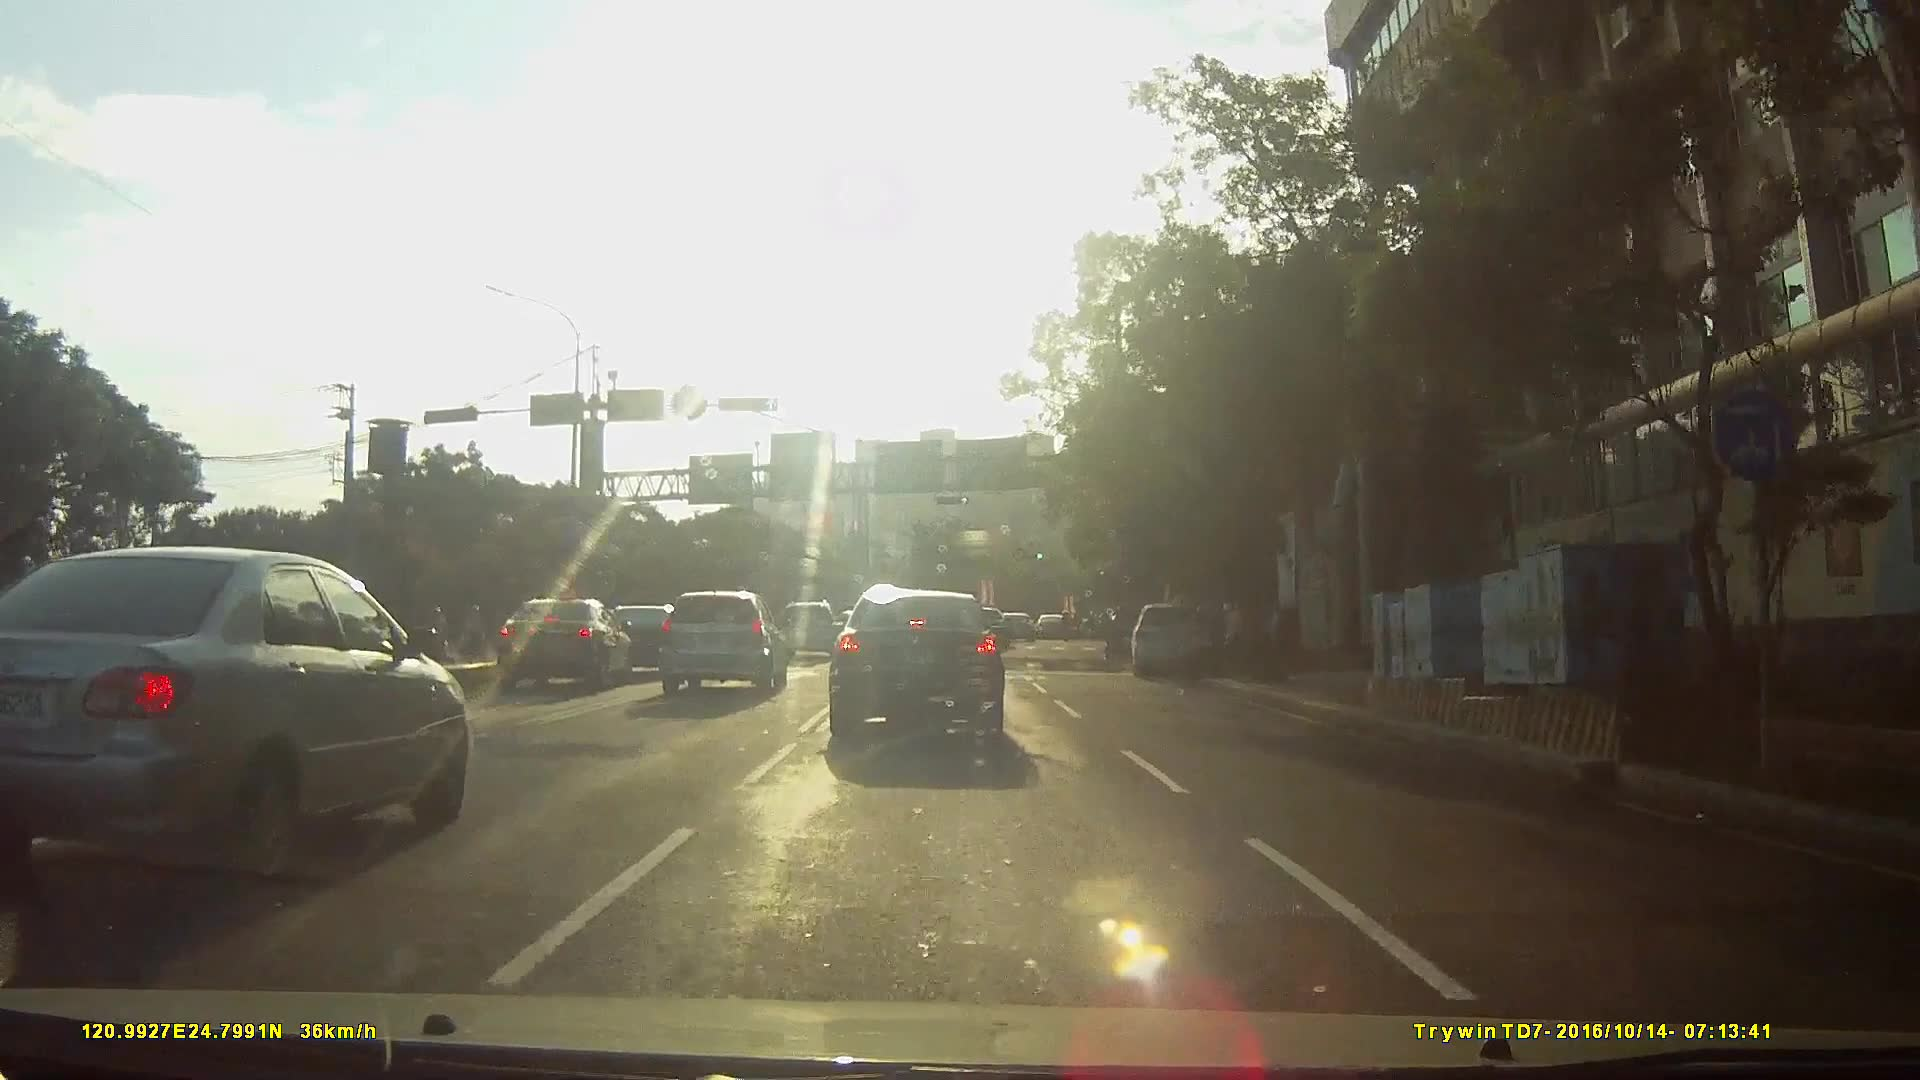pedestrian: (1221, 603, 1249, 667)
rider: (457, 602, 493, 662), (424, 604, 454, 669)
vehicle: (1, 543, 493, 897), (820, 600, 1022, 772), (470, 598, 623, 697), (652, 588, 787, 695), (1135, 602, 1222, 683), (585, 605, 678, 678), (773, 600, 843, 664), (959, 606, 1015, 653), (1000, 612, 1039, 644), (1036, 614, 1075, 642)
